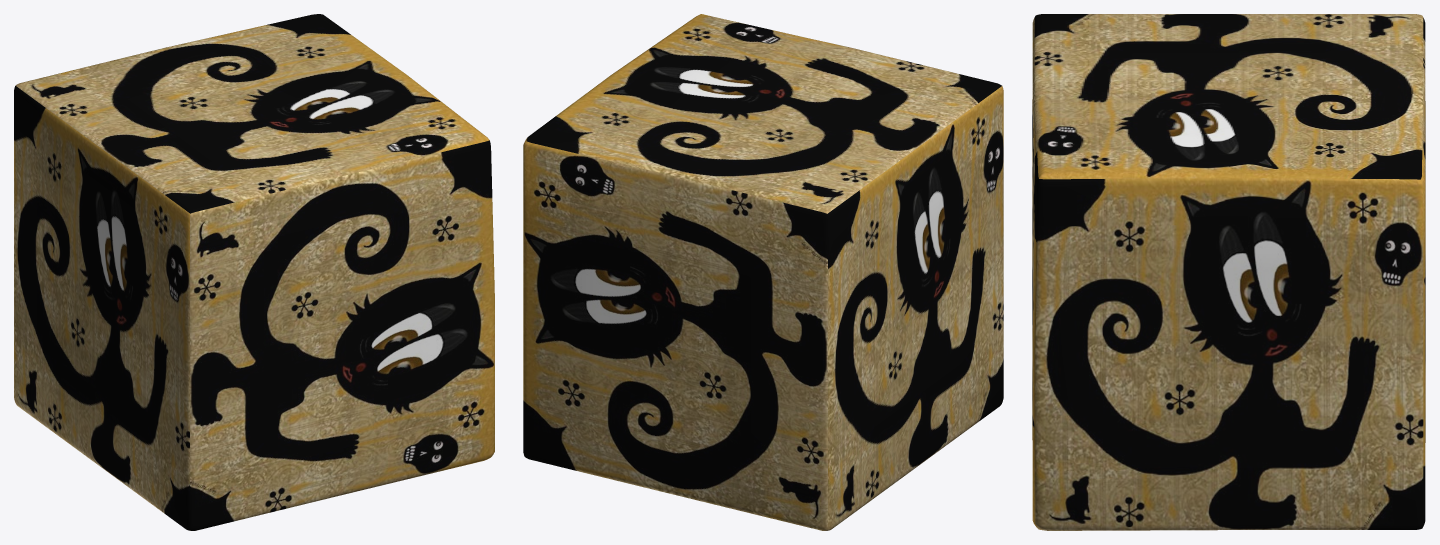
3 views of the same model, side by side, from view 1: azimuth 30°, elevation 25°; view 2: azimuth 150°, elevation 25°; view 3: azimuth 270°, elevation 25° (orthographic). The views are drawn at different scales.
Bounding box in the file's own units: 1.02 × 1.02 × 1.02.
